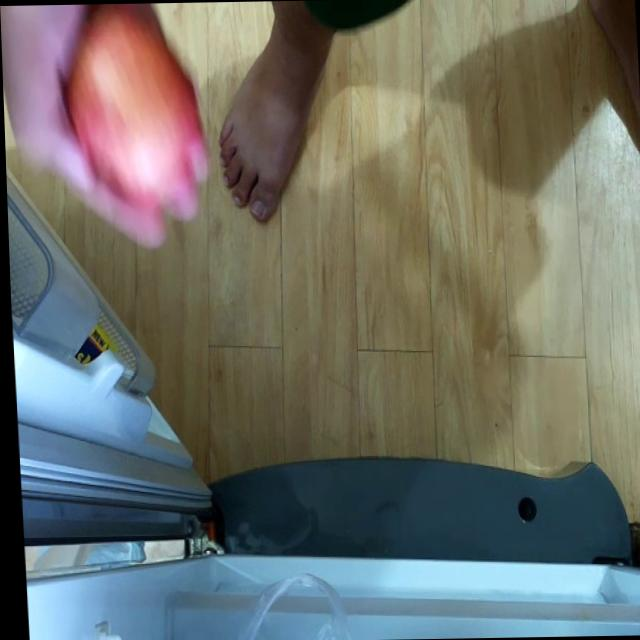apple: (61, 9, 204, 201)
